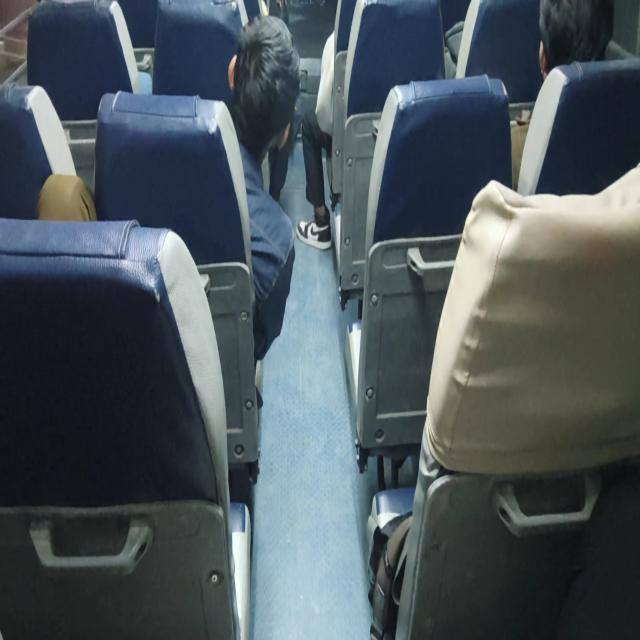person: (36, 13, 302, 363), (226, 13, 301, 363), (296, 0, 398, 251), (510, 0, 615, 189), (296, 28, 336, 250), (537, 0, 614, 82), (36, 172, 97, 222)
